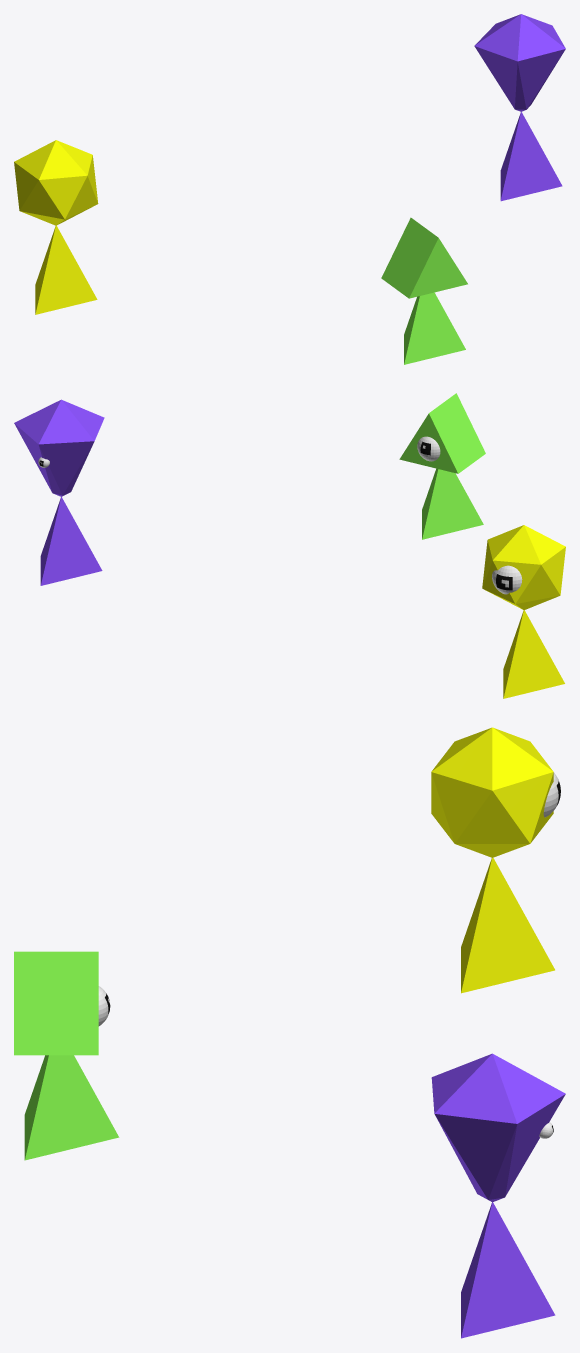
Rendered from ThreeAliensWizardGame 1.fbx.
3 renders of one model, top to bottom at view 1: azimuth 30°, elevation 25°; view 2: azimuth 150°, elevation 25°; view 3: azimuth 270°, elevation 25°, orthographic. The views are drawn at different scales.
Visible parts, largest first — view 1: Cone, Sphere, Cone.001; view 2: Cone, Sphere, Cone.001; view 3: Cone, Sphere, Cone.001.
Part boxes in pixels (bbox=[...]): Cone: bbox=[14, 140, 98, 314]; Sphere: bbox=[474, 14, 565, 201]; Cone.001: bbox=[381, 217, 467, 364]; Cone: bbox=[482, 525, 565, 698]; Sphere: bbox=[14, 399, 104, 585]; Cone.001: bbox=[399, 393, 485, 539]; Cone: bbox=[431, 727, 560, 993]; Sphere: bbox=[431, 1053, 565, 1338]; Cone.001: bbox=[14, 951, 119, 1160].
Bounding box in the file's own units: 1507 × 458 × 876.
